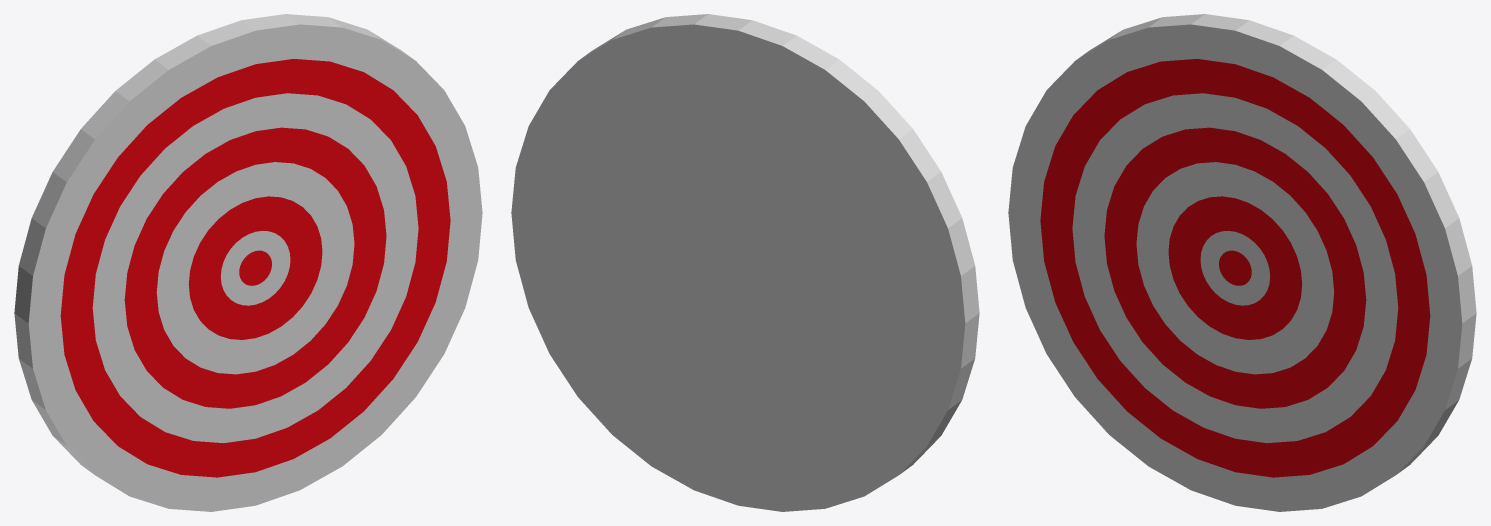
File: dart.fbx
3 renders of one model, left to right at view 1: azimuth 30°, elevation 25°; view 2: azimuth 150°, elevation 25°; view 3: azimuth 330°, elevation 25°, orthographic.
Visible parts, largest first — view 1: Cylinder; view 2: Cylinder; view 3: Cylinder.
Boxes of the visible parts, x1,y1,x2,y2 form: Cylinder: (14,14,482,511); Cylinder: (511,14,979,511); Cylinder: (1008,14,1476,511).
Size of the model in its own units: 200 by 200 by 10.9.
